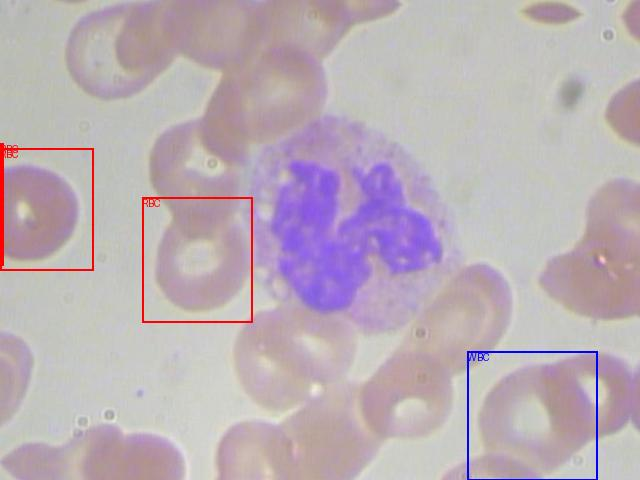RBC: (142, 197, 252, 322), (0, 148, 93, 270), (0, 143, 3, 265)
WBC: (467, 351, 597, 480)
